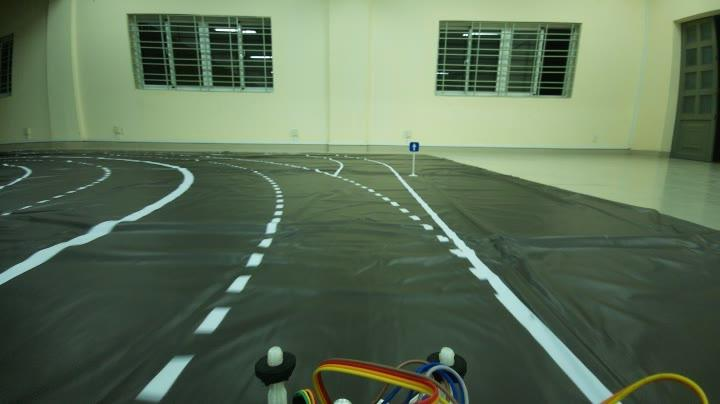onewayroad: (406, 139, 426, 152)
